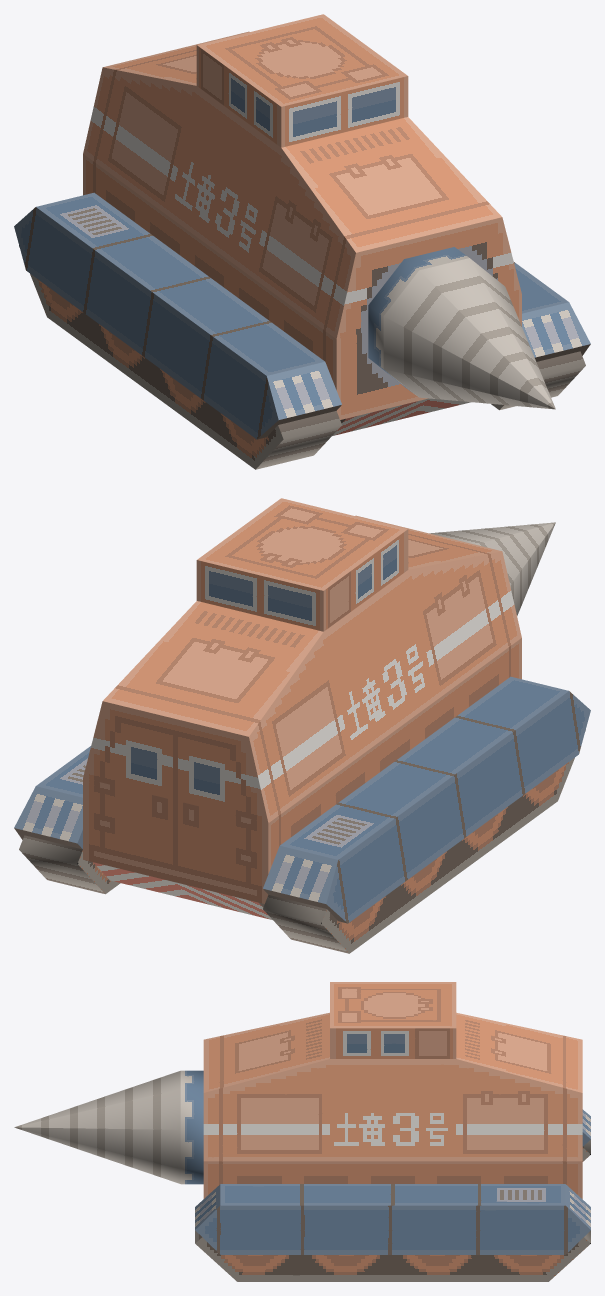
File: 01b0_Driller.glb
3 renders of one model, top to bottom at view 1: azimuth 30°, elevation 25°; view 2: azimuth 150°, elevation 25°; view 3: azimuth 270°, elevation 25°, orthographic. The views are drawn at different scales.
Parts seen in each view (by area): view 1: part_0, part_1; view 2: part_0, part_1; view 3: part_0, part_1.
Boxes of the visible parts, x1,y1,x2,y2 form: part_0: [14, 14, 590, 469]; part_1: [256, 258, 585, 469]; part_0: [14, 498, 590, 953]; part_1: [19, 522, 555, 953]; part_0: [180, 982, 590, 1281]; part_1: [14, 1071, 590, 1243].
Bounding box in the file's own units: 3.96 × 3.48 × 8.22.
1 material, 1 textured.
